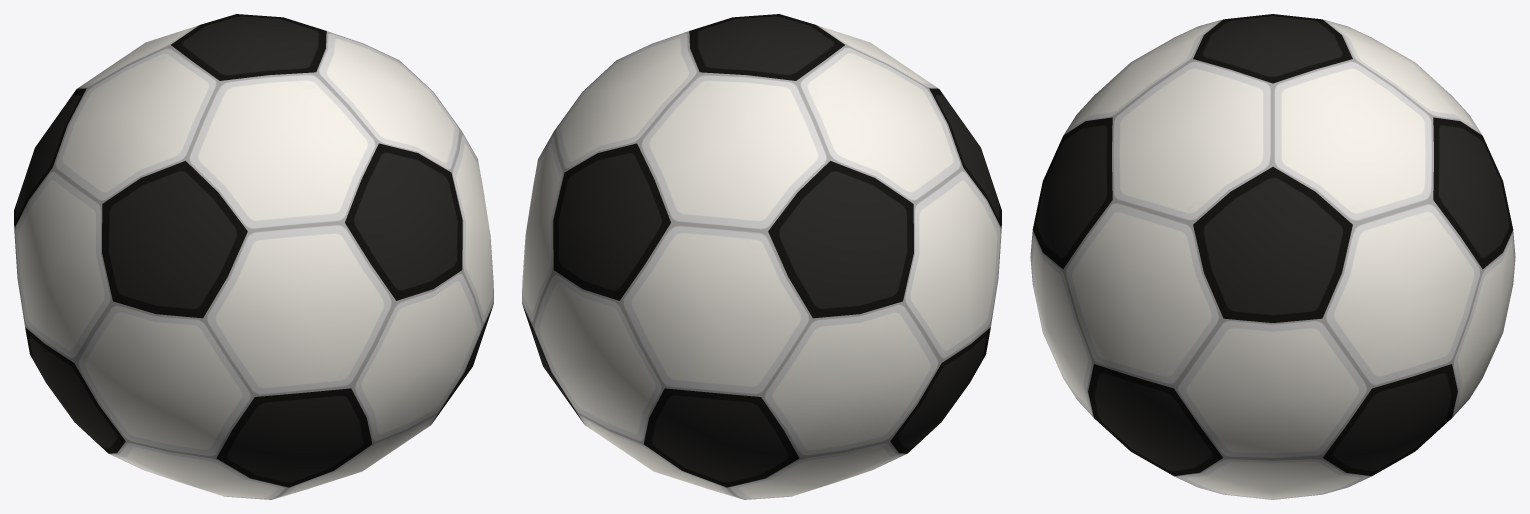
Rendered from football.fbx.
3 renders of one model, left to right at view 1: azimuth 30°, elevation 25°; view 2: azimuth 150°, elevation 25°; view 3: azimuth 270°, elevation 25°, orthographic.
Parts seen in each view (by area): view 1: Icosphere.001; view 2: Icosphere.001; view 3: Icosphere.001.
Part boxes in pixels (bbox=[...]): Icosphere.001: bbox=[14, 14, 493, 499]; Icosphere.001: bbox=[522, 14, 1001, 499]; Icosphere.001: bbox=[1030, 14, 1515, 499].
Size of the model in its own units: 155 by 158 by 156.
1 material, 1 textured.
